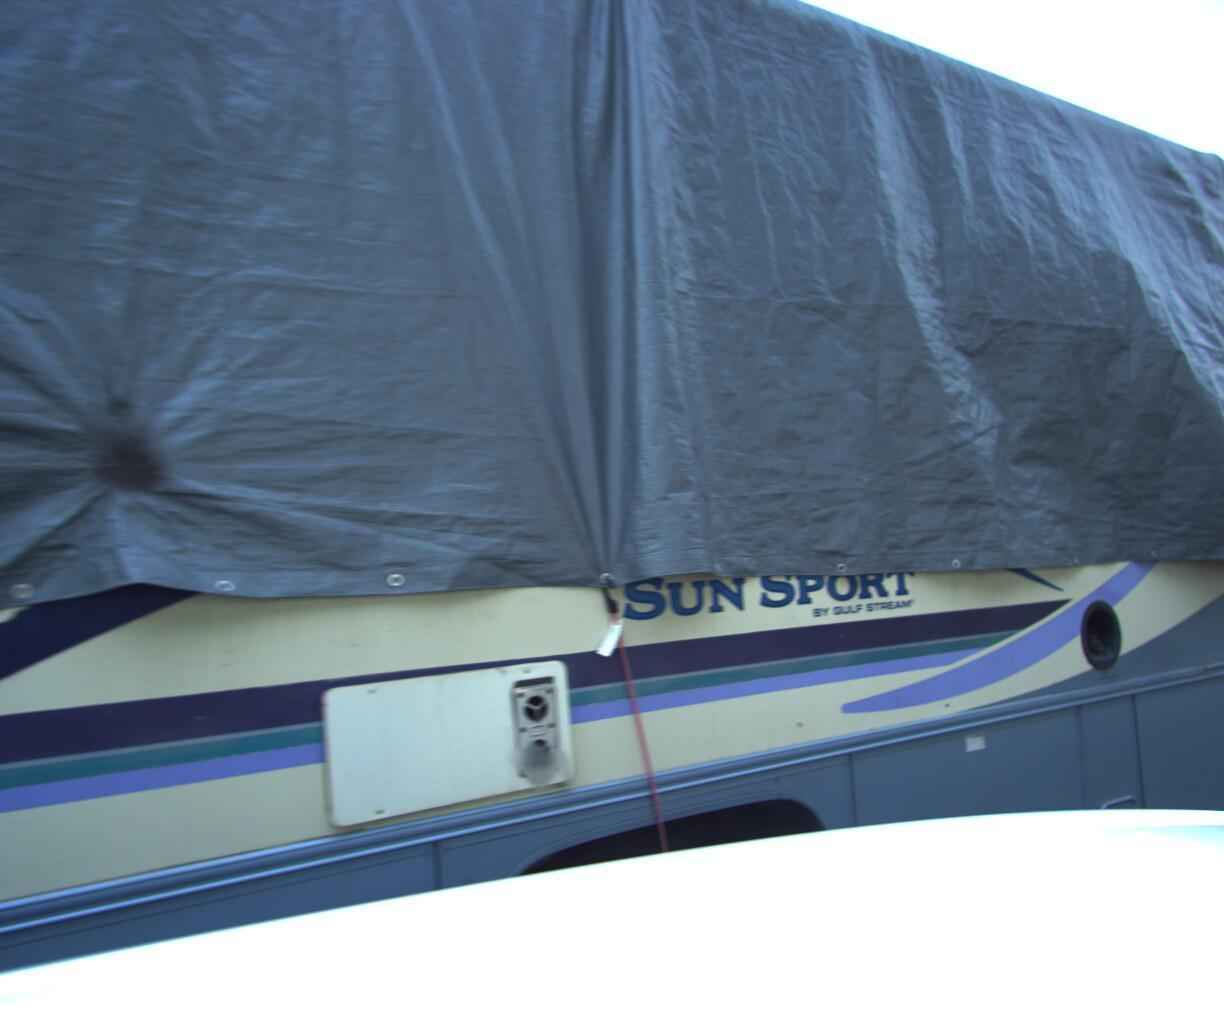car: (1095, 518, 1224, 778)
